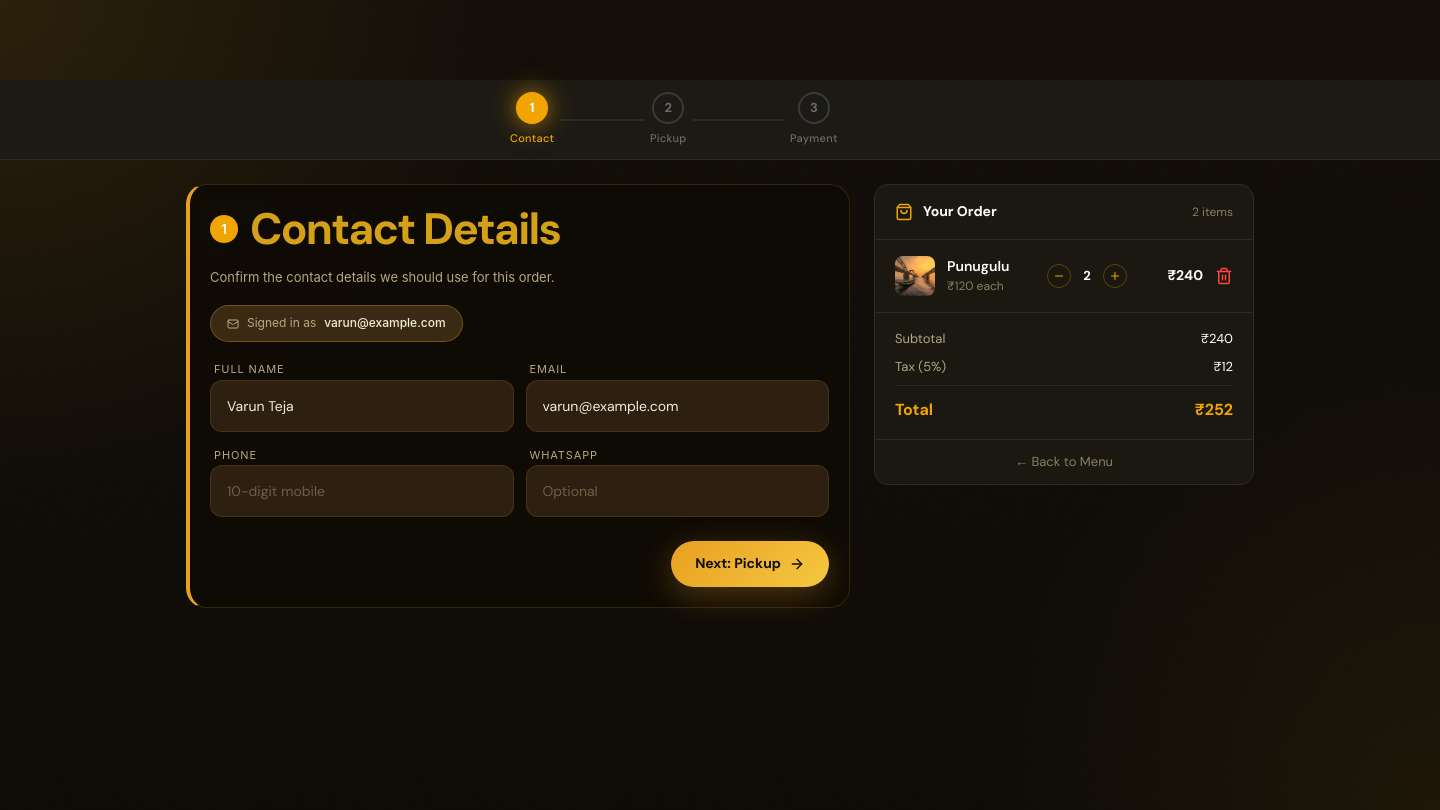
Test case: OrderPage › applies a promo code successfully
Type "9876543210" into the field labelled "Phone". click: [362, 491]
box: x1=210 y1=465 x2=514 y2=517
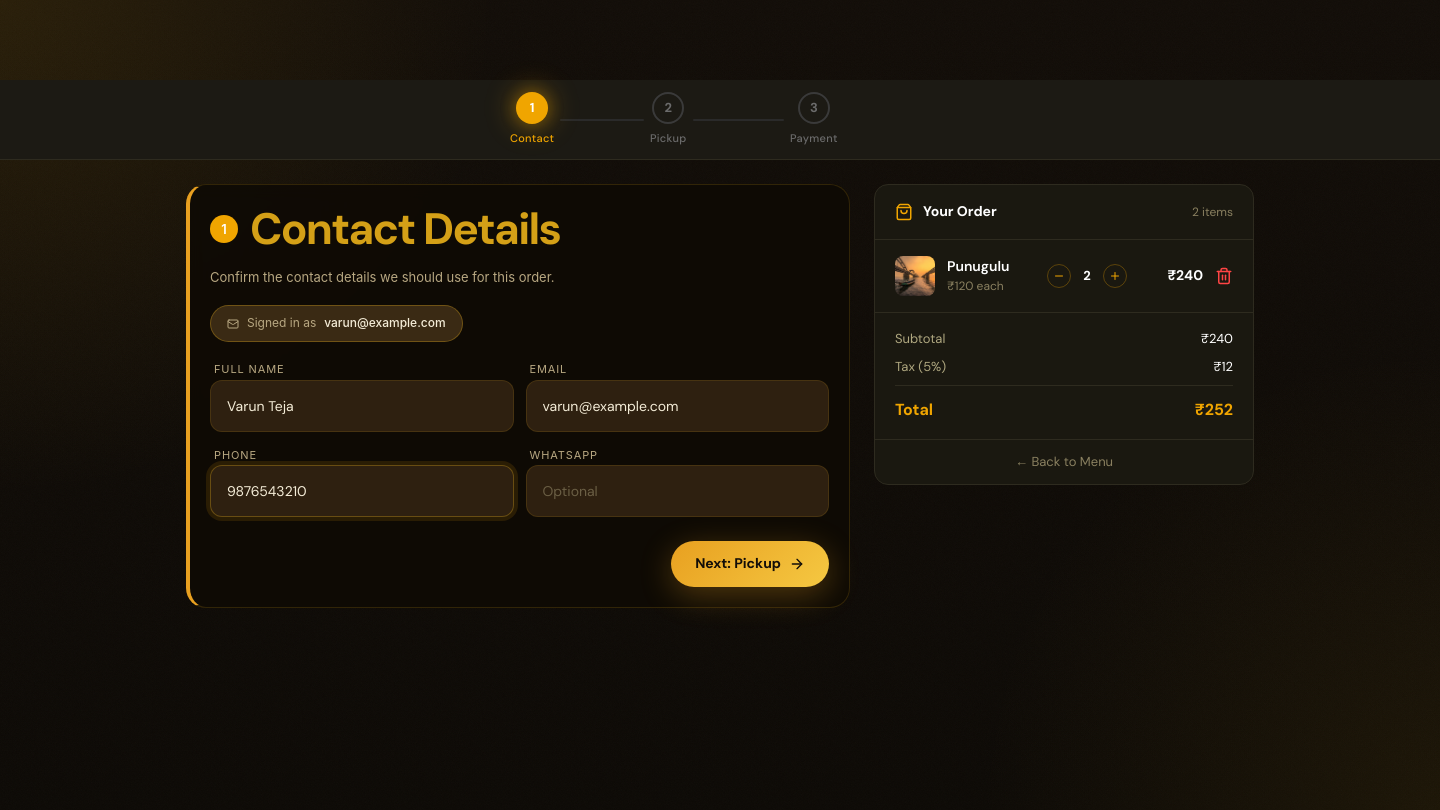
Click the button "Next: Pickup". click: [750, 564]
box: x1=671 y1=541 x2=829 y2=587
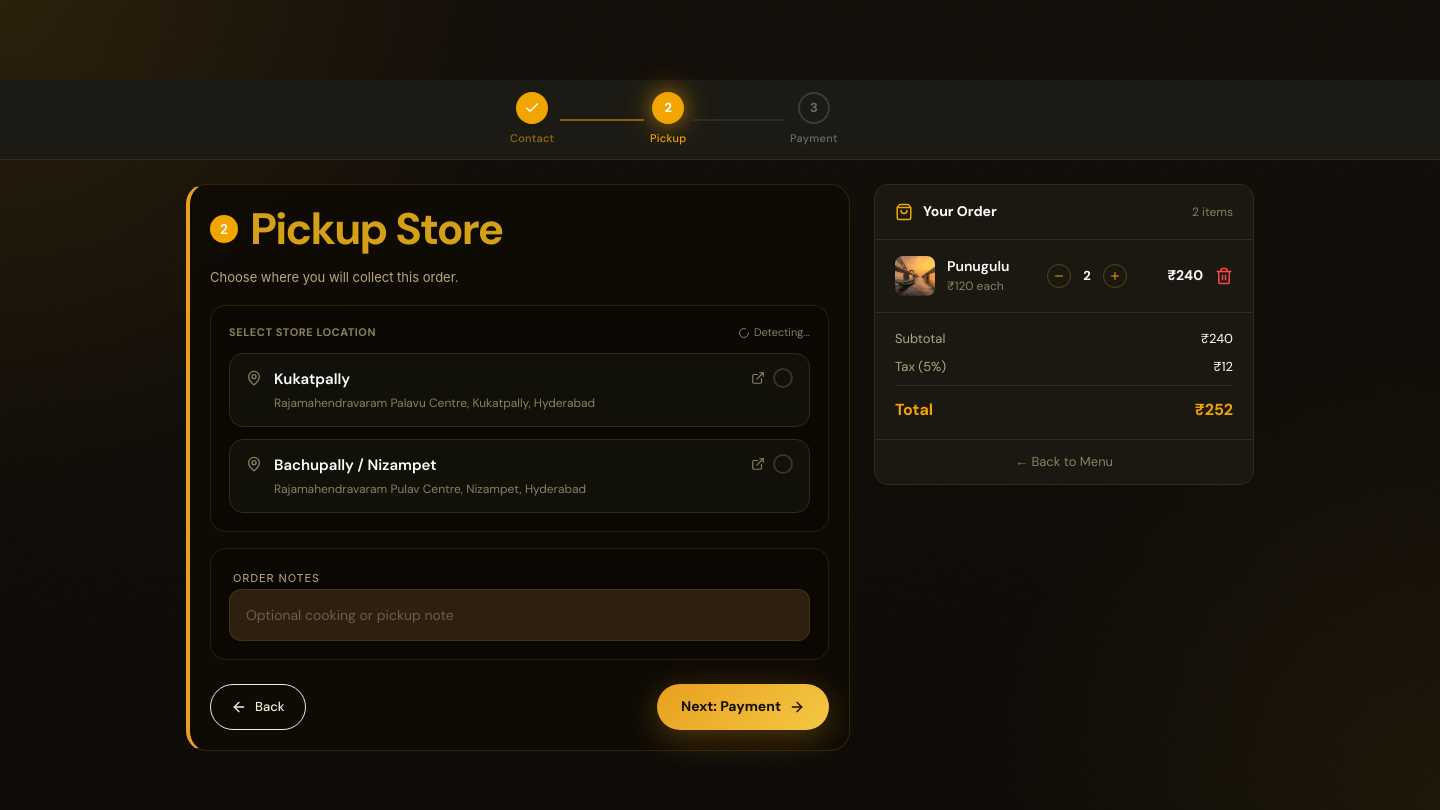
Click the button "Kukatpally". click: [312, 379]
box: x1=229 y1=354 x2=810 y2=427
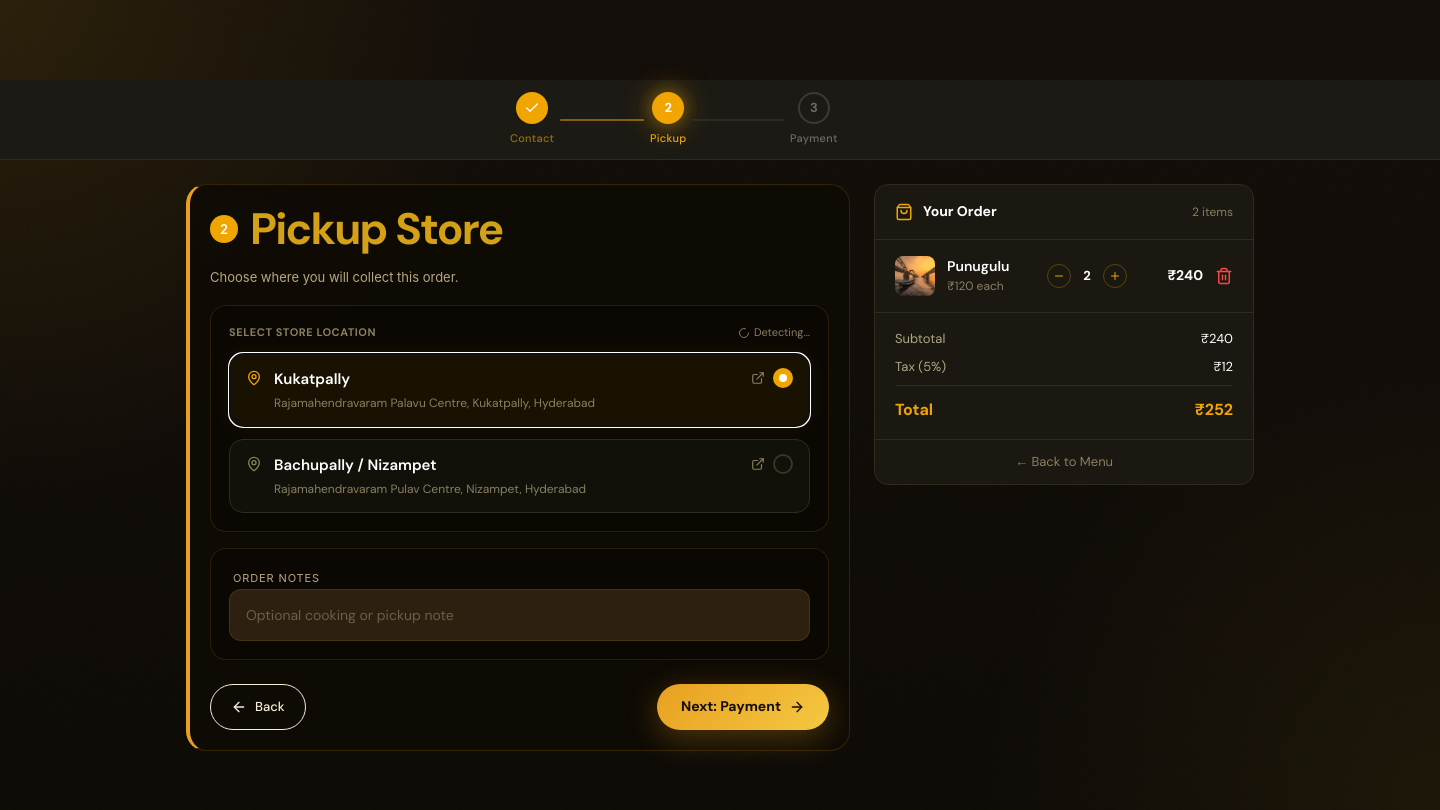
Click the button "Next: Payment". click: [743, 707]
box: x1=657 y1=684 x2=829 y2=730
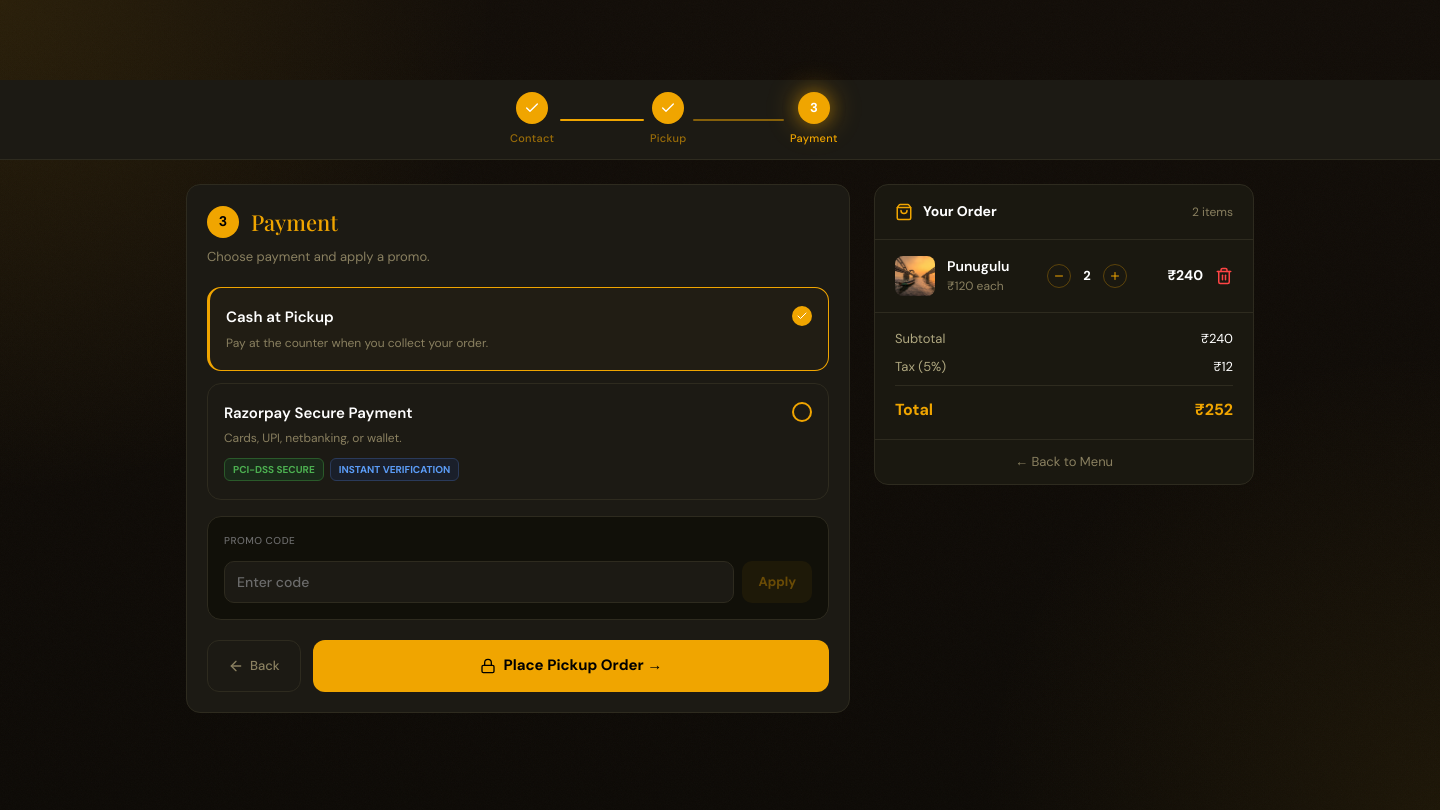
Type "welcome10" into the field with placeholder "Enter code". click: [479, 582]
box: x1=224 y1=561 x2=734 y2=603
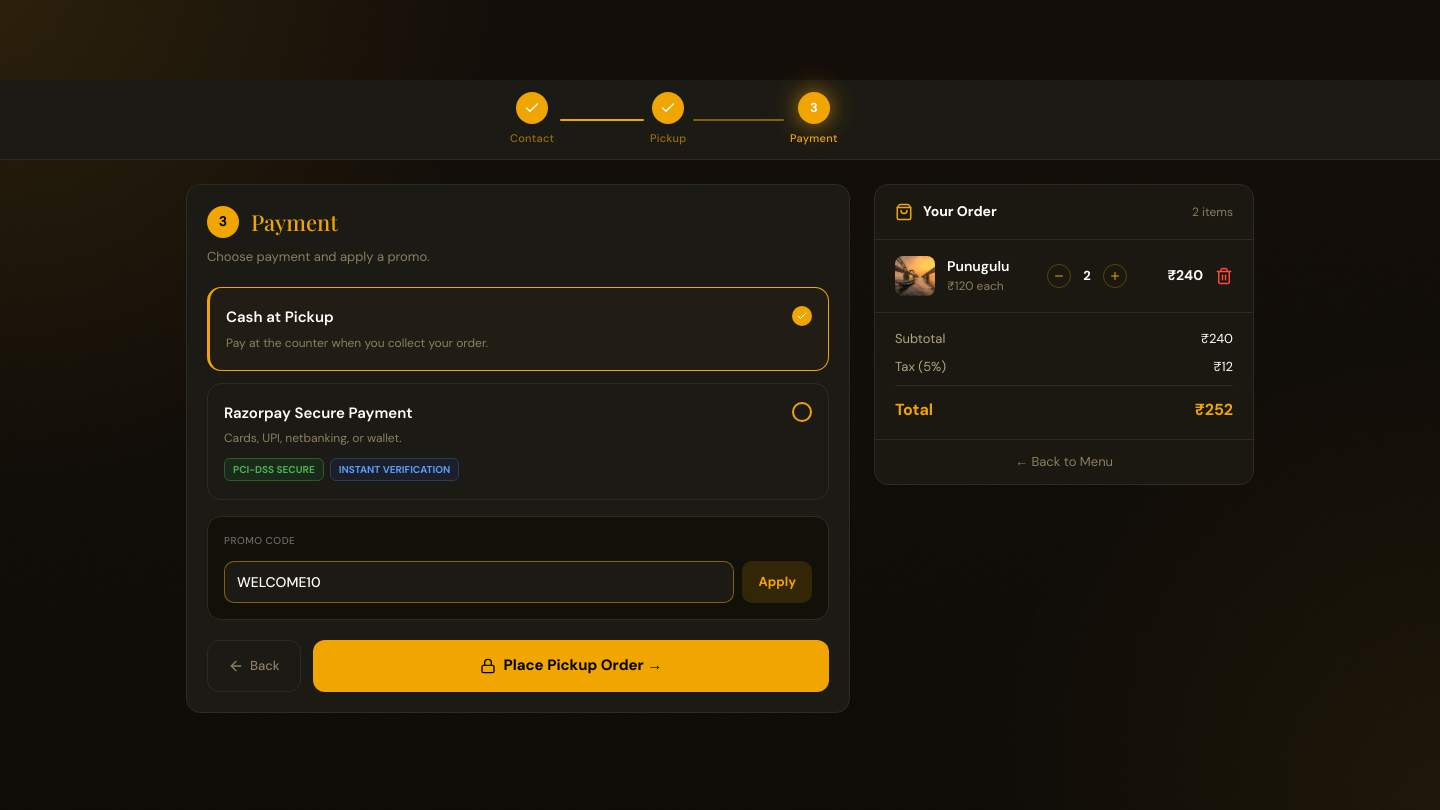
Click the button "Apply". click: [777, 582]
box: x1=742 y1=561 x2=812 y2=603
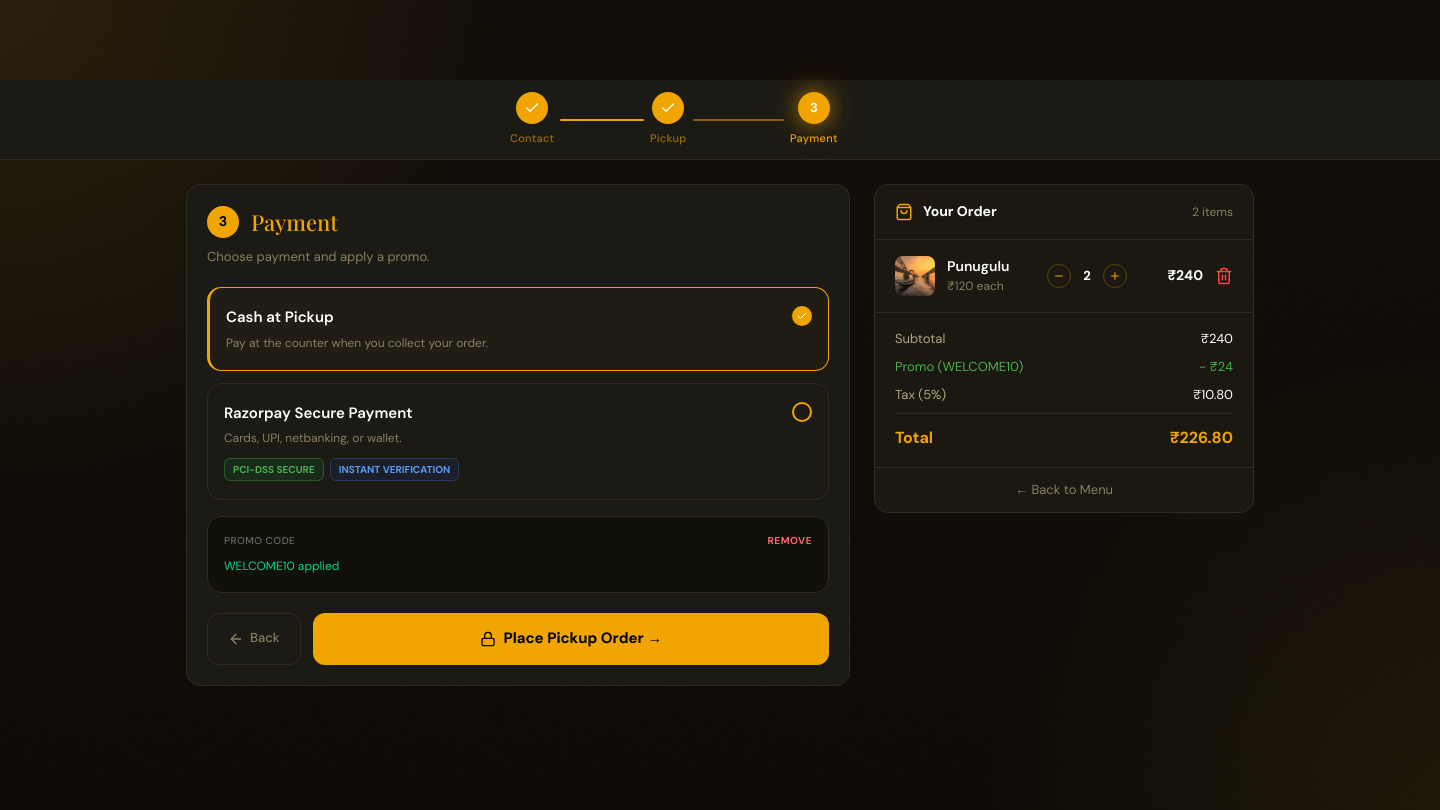
Expected: the text "WELCOME10 applied" is shown, x1=224 y1=558 x2=339 y2=574
